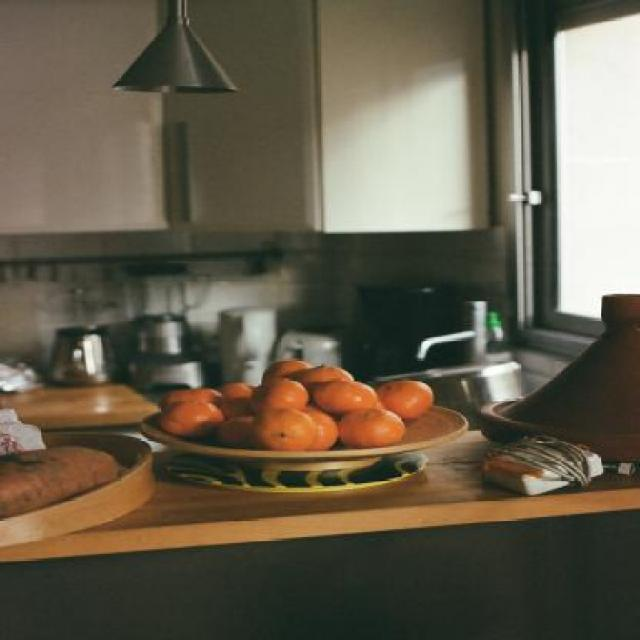Orange: (349, 410, 426, 446), (252, 411, 320, 446), (380, 380, 446, 414), (251, 372, 297, 414), (156, 404, 222, 433), (316, 380, 372, 408), (156, 383, 222, 403), (302, 364, 344, 392), (218, 377, 252, 409), (223, 406, 251, 437), (280, 360, 311, 378), (320, 416, 336, 441)
